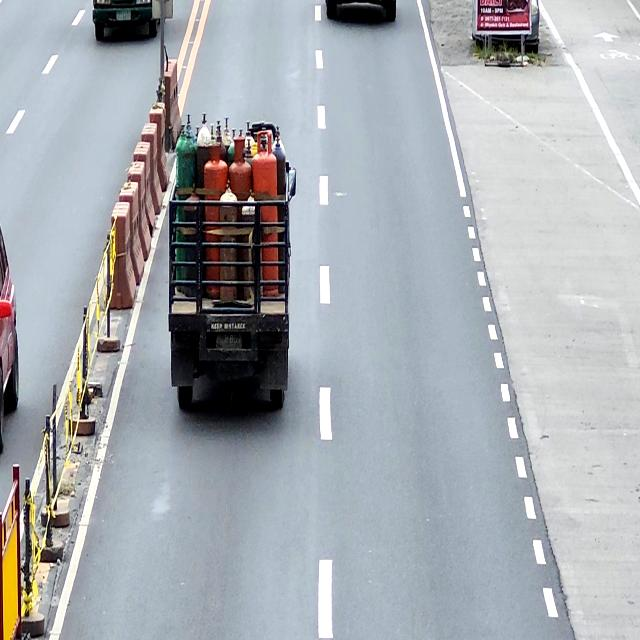Car: (0, 226, 19, 454), (91, 0, 161, 40)
License-Plate: (216, 332, 243, 349), (116, 11, 131, 21)
Truck: (168, 172, 292, 410)
